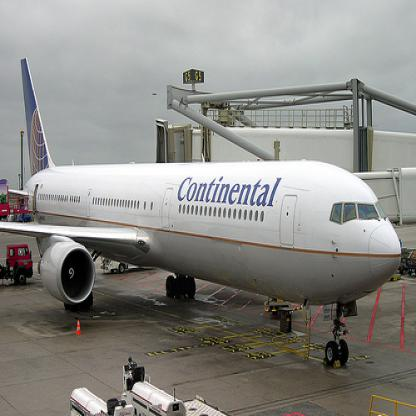aeroplane: (1, 60, 404, 370)
